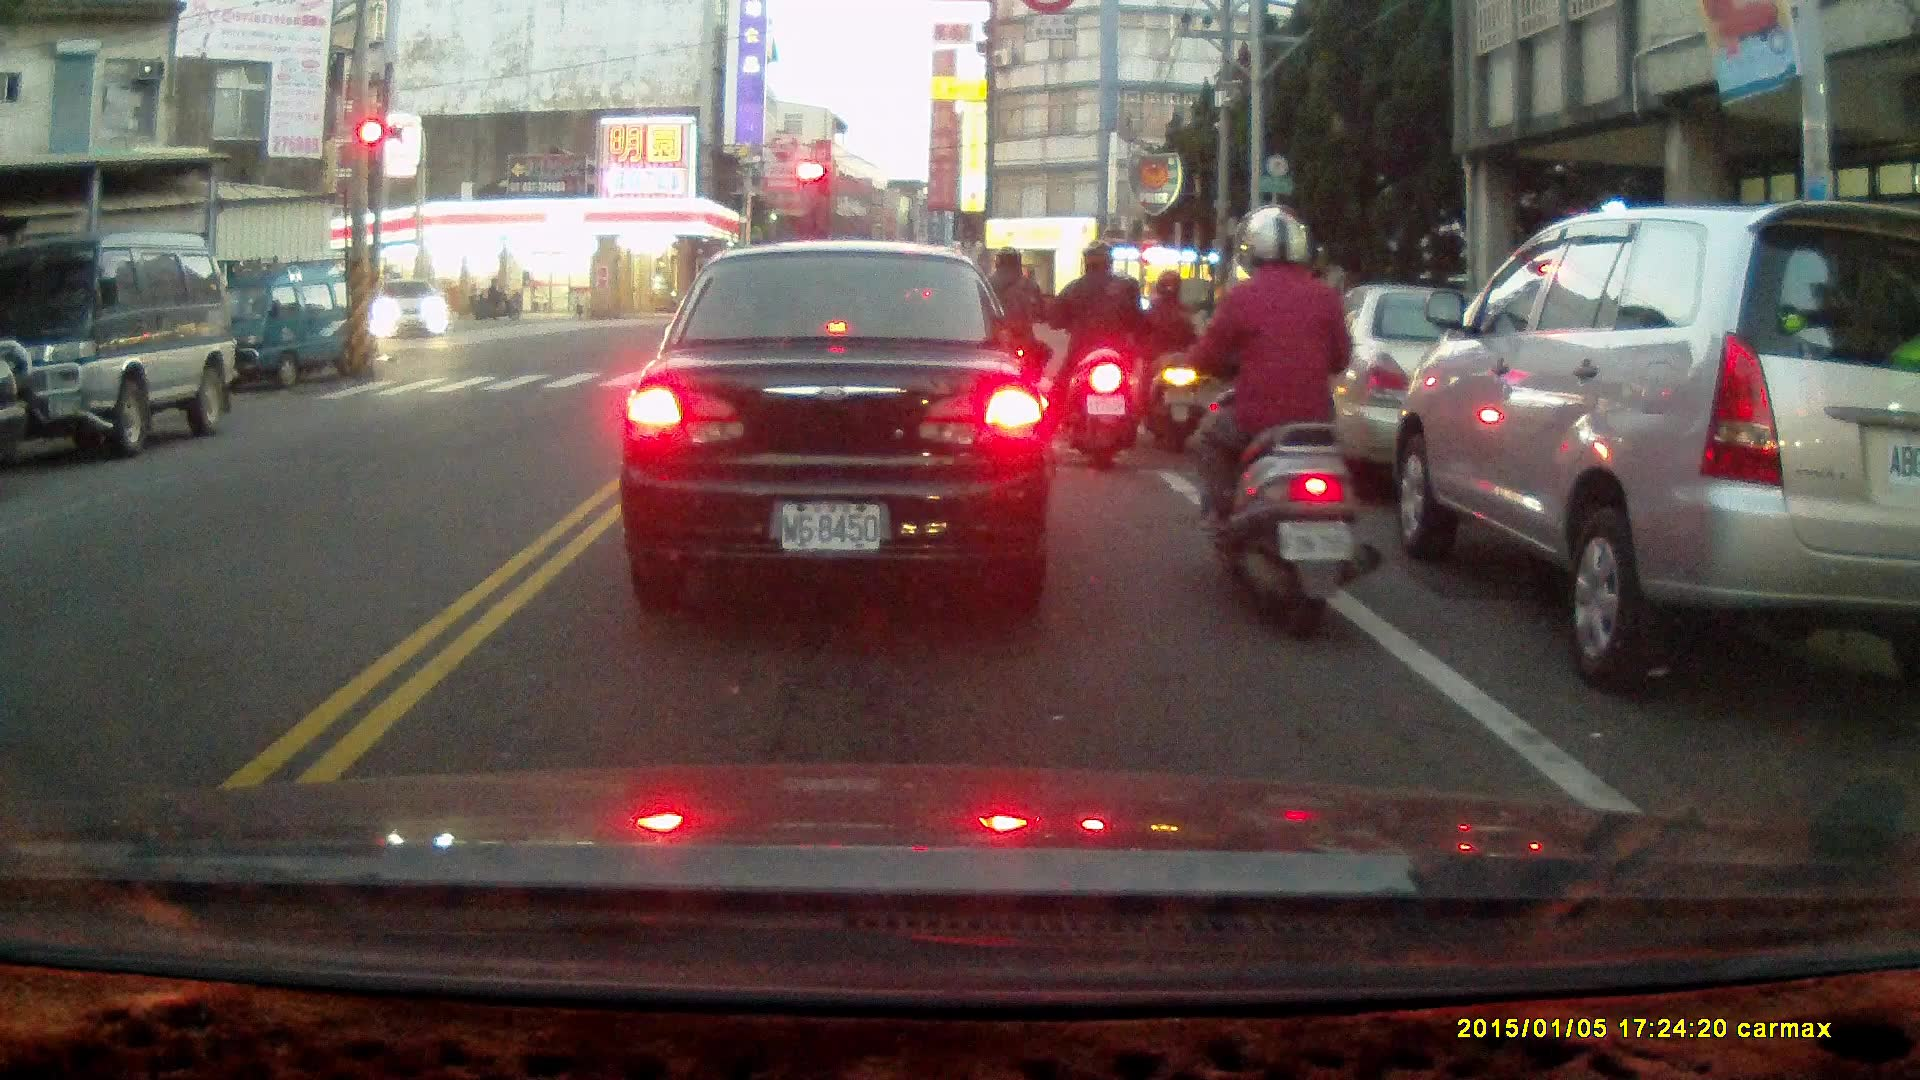rider: (1186, 204, 1386, 644), (1048, 242, 1141, 468), (960, 239, 1057, 432), (1134, 269, 1204, 450), (473, 278, 518, 319)
vehicle: (1386, 202, 1917, 695), (617, 243, 1061, 606), (1256, 286, 1568, 492), (1, 234, 239, 458), (194, 256, 380, 393), (372, 277, 451, 343)
